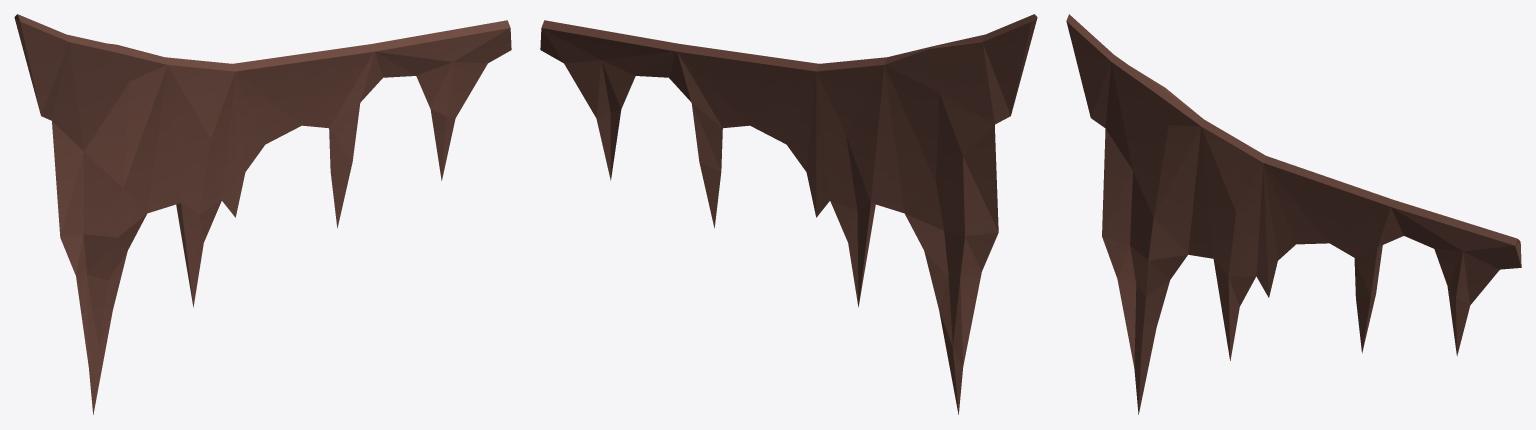
Rendered from ZLP_Rag_A_3.FBX.
3 views of the same model, side by side, from view 1: azimuth 30°, elevation 25°; view 2: azimuth 150°, elevation 25°; view 3: azimuth 330°, elevation 25° (orthographic). The views are drawn at different scales.
Visible parts, largest first — view 1: ZLP_Rag_A_3; view 2: ZLP_Rag_A_3; view 3: ZLP_Rag_A_3.
Boxes of the visible parts, x1,y1,x2,y2 form: ZLP_Rag_A_3: (14, 14, 511, 414); ZLP_Rag_A_3: (540, 14, 1037, 414); ZLP_Rag_A_3: (1066, 14, 1521, 414).
Size of the model in its own units: 504 by 410 by 18.49.
